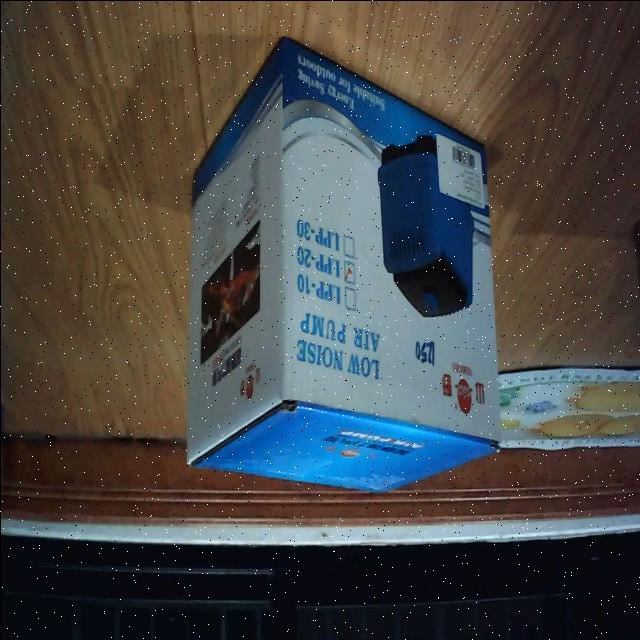YAMANO_LPP_20: (169, 42, 507, 516)
